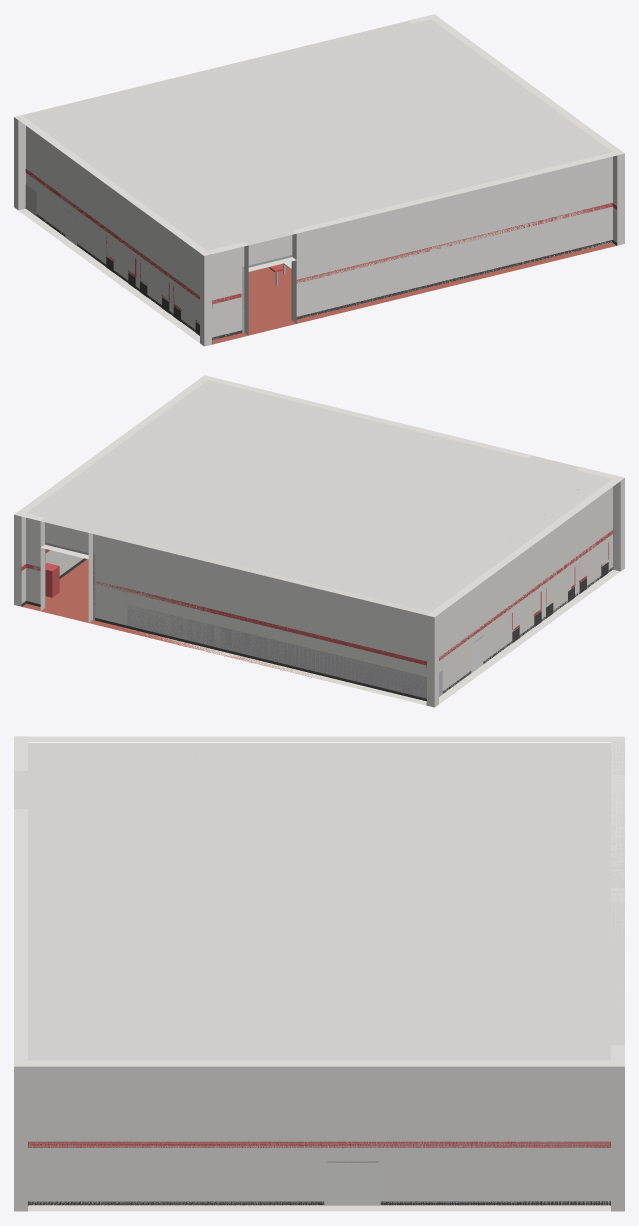
The model's file is burger.glb.
3 views of the same model, one above another, from view 1: azimuth 30°, elevation 25°; view 2: azimuth 150°, elevation 25°; view 3: azimuth 270°, elevation 25° (orthographic). The views are drawn at different scales.
Parts seen in each view (by area): view 1: burger; view 2: burger; view 3: burger.
Part boxes in pixels (x1,y1,x2,y2): burger: (14,14,624,346); burger: (14,375,624,707); burger: (14,736,624,1211).
Bounding box in the file's own units: 16.6 × 3.43 × 13.
